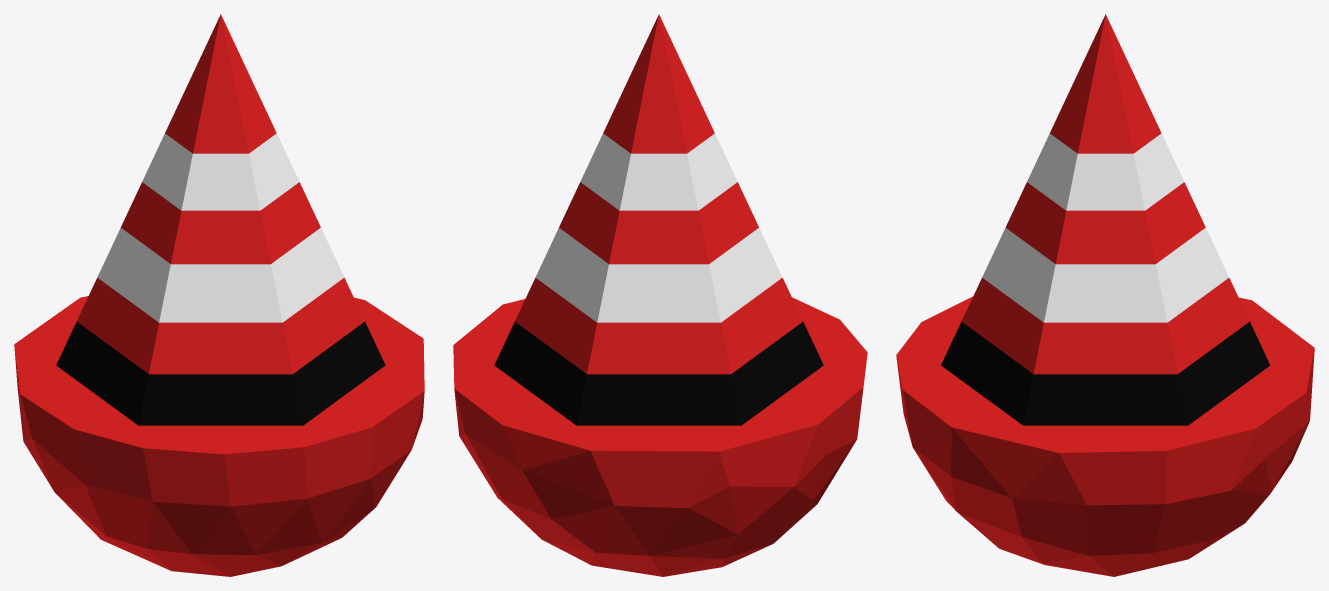
File: Buoy.fbx
3 views of the same model, side by side, from view 1: azimuth 30°, elevation 25°; view 2: azimuth 150°, elevation 25°; view 3: azimuth 270°, elevation 25° (orthographic).
Parts seen in each view (by area): view 1: Sphere; view 2: Sphere; view 3: Sphere.
Boxes of the visible parts, box(x1,y1,x2,y2) form: Sphere: box(14, 14, 424, 576); Sphere: box(453, 14, 867, 576); Sphere: box(896, 14, 1314, 576).
Size of the model in its own units: 214 by 308 by 216.
